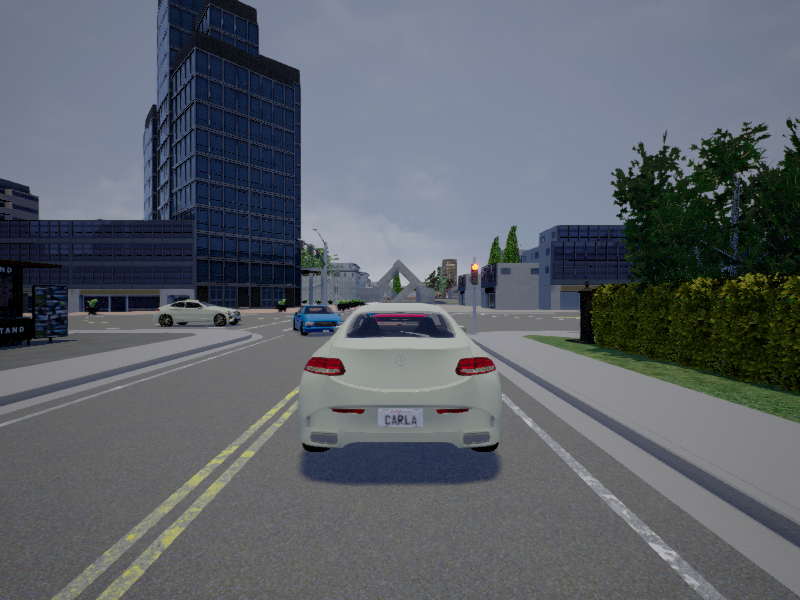Benign: (304, 303, 497, 451), (156, 301, 245, 325), (293, 308, 342, 334)
